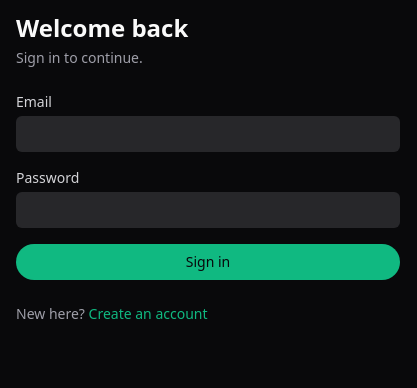
Test: login page › shows the server message and stays signed out on bad credentials
Type "ada@example.com" into the field labelled "Email" at x=208, y=134, box [16,116,400,152]
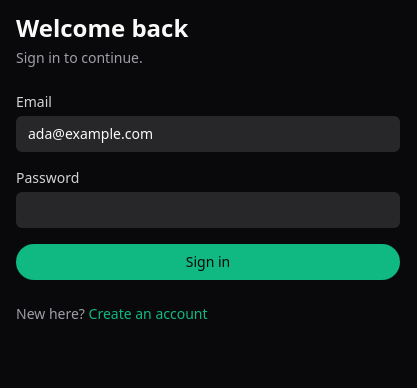
Type "nope" into the password field labelled "Password" at x=208, y=210, box [16,192,400,228]
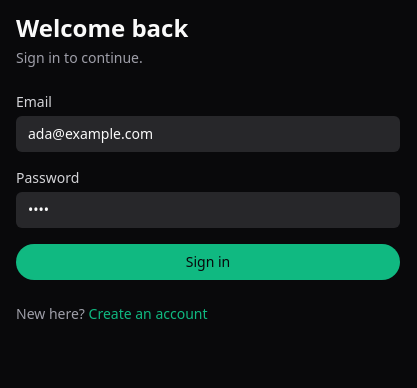
Click the button "Sign in" at x=208, y=262, box [16,244,400,280]
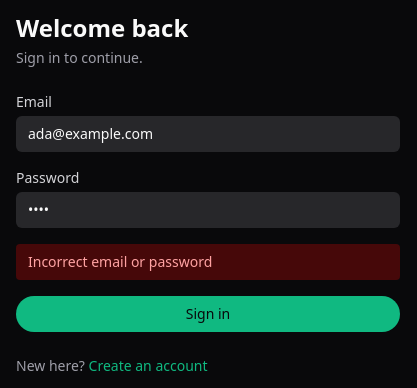
Now the message reads "Incorrect email or password", box [28,252,212,271]
